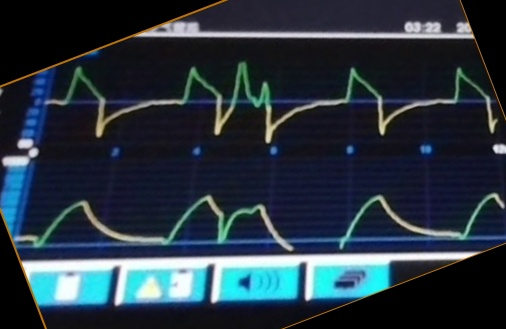Double_Triggering Flow: (70, 59, 484, 142)
Double_Triggering Volume: (29, 192, 494, 249)
